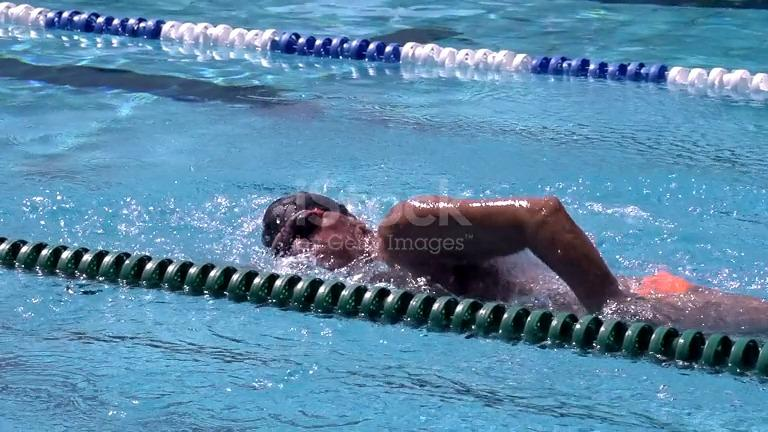Swimming: (154, 87, 708, 388)
